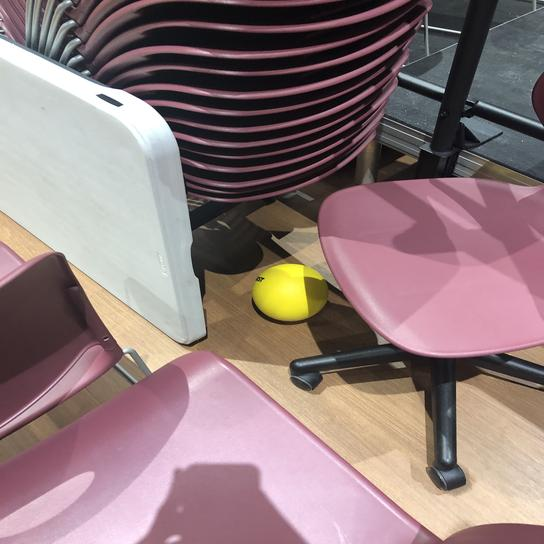ball: (248, 260, 329, 325)
